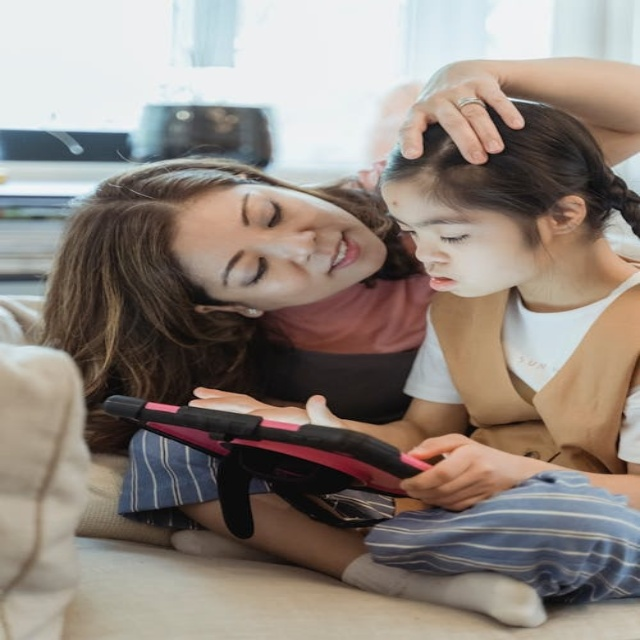Sin_gafas: (221, 187, 289, 296), (384, 204, 488, 249)
Sin_guantes: (393, 66, 528, 168), (394, 434, 543, 511), (187, 388, 339, 430)
Sin_mascara: (314, 220, 370, 286), (417, 262, 483, 300)
